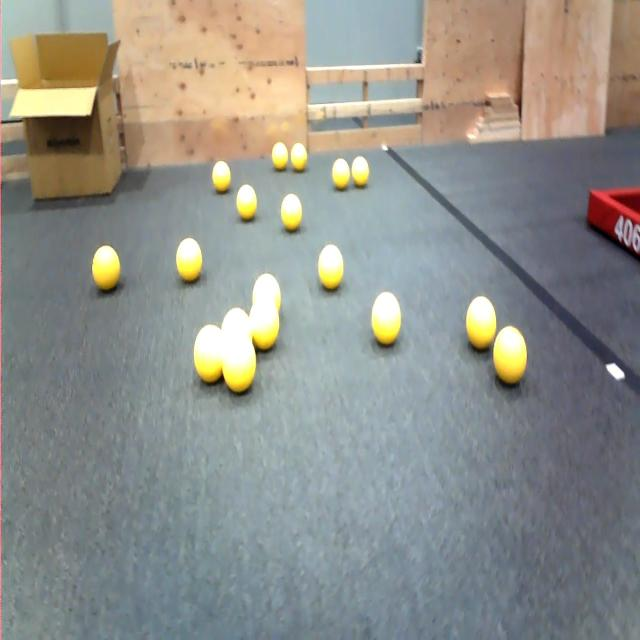fuel: (223, 334, 256, 393), (494, 327, 527, 384), (194, 325, 223, 383), (249, 296, 279, 351), (466, 296, 496, 350), (372, 292, 401, 345), (92, 246, 120, 291), (176, 238, 202, 282), (318, 245, 343, 290), (252, 273, 281, 311), (221, 308, 251, 339), (281, 194, 302, 231), (237, 184, 257, 220), (212, 160, 231, 193), (351, 156, 369, 187), (332, 159, 350, 190), (291, 143, 307, 172), (272, 142, 288, 170)
